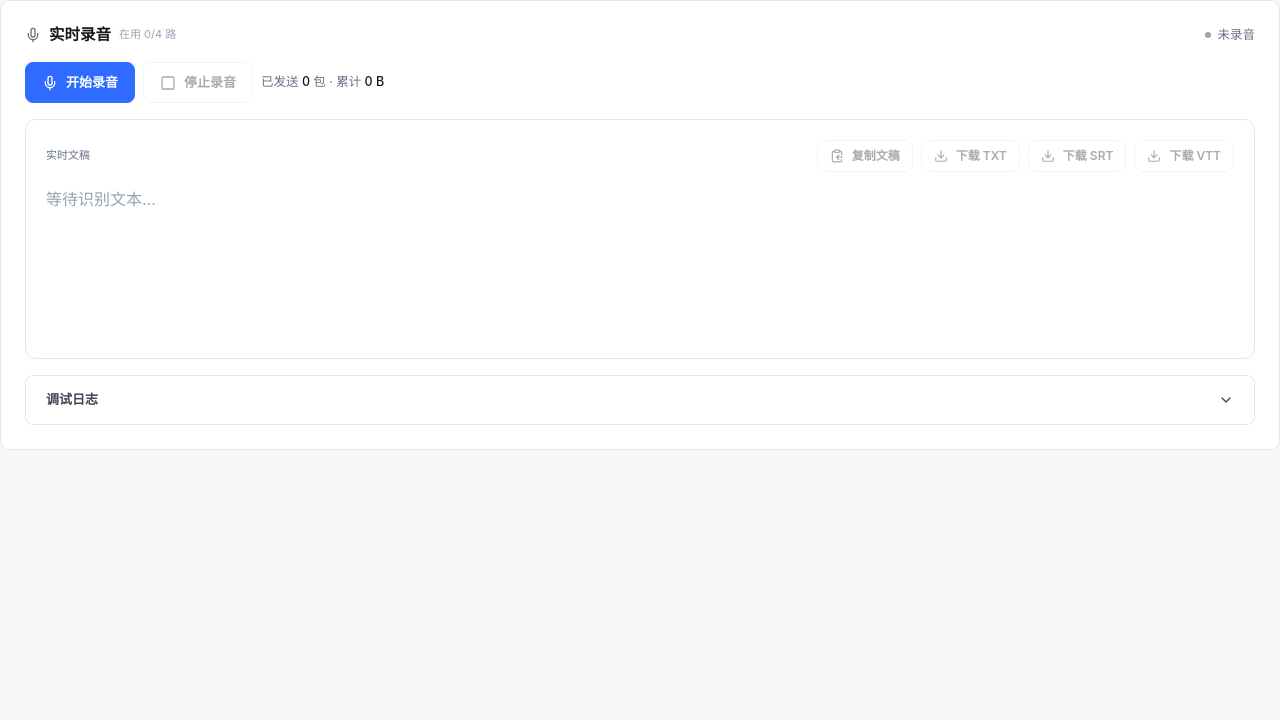
Scenario: <RealtimeView /> browser recorder › explains a denied microphone permission instead of echoing the DOMException
This screenshot has width=1280, height=720.
Click the button "开始录音". click: x=80, y=83
box: [25,62,135,103]
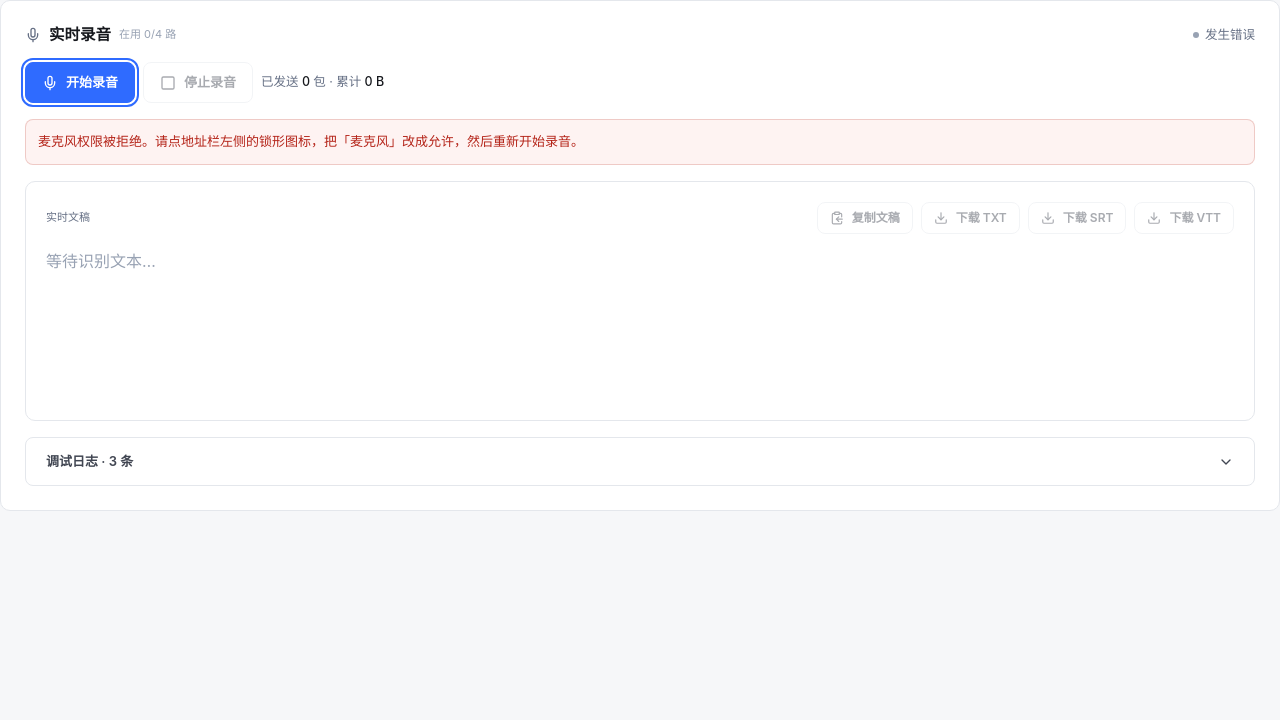
Expected: the text "在用 0/4 路" is shown, [119,28,176,43]
Result: the text "麦克风权限被拒绝。请点地址栏左侧的锁形图标，把「麦克风」改成允许，然后重新开始录音。" is shown at [25,119,1255,165]
Result: the text "发生错误" is shown at [1193,26,1255,45]
